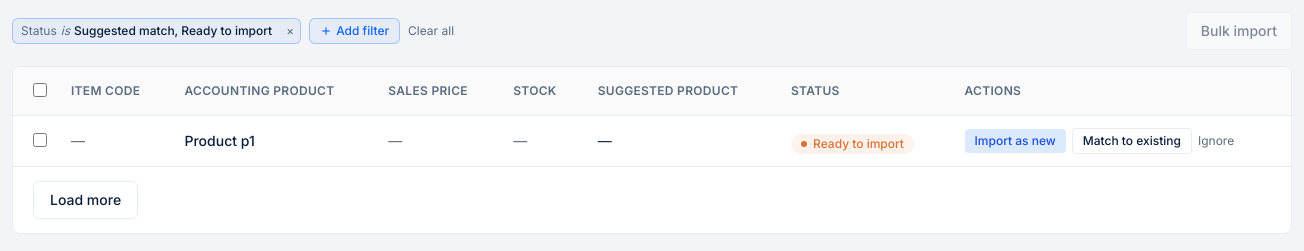
Test: ProductsTab › loads the next page and appends results on Load more
Expected: the text "Product p1" is shown, [168, 116, 372, 166]
Click the button "Load more".
click(86, 200)  # box [33, 181, 138, 219]
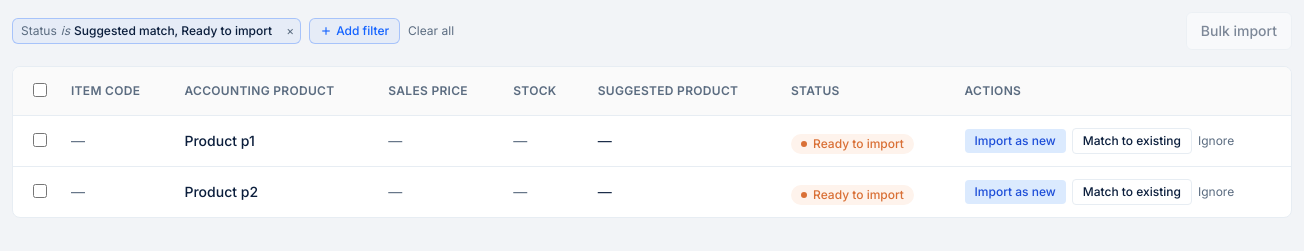
Expected: the text "Product p1" is shown, [168, 116, 372, 166]
Expected: the text "Product p2" is shown, [168, 166, 372, 217]
Expected: the button "Load more" is gone
